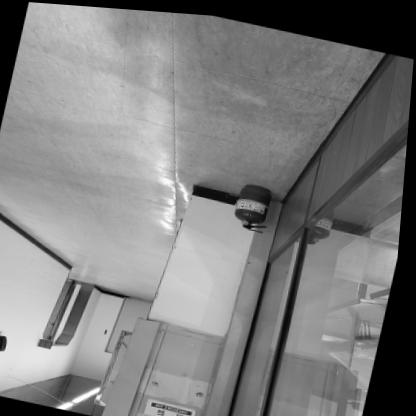FE: (234, 176, 275, 227)
